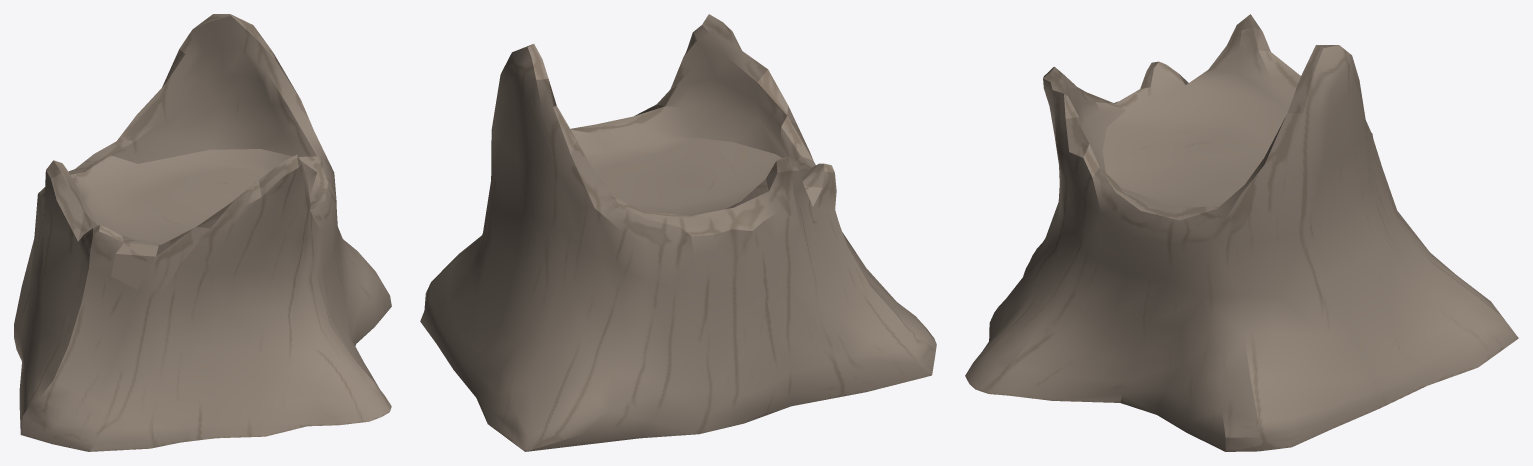
Rendered from Environment_DeadStump_Mesh_V02.fbx.
The picture shows the model from 3 angles, left to right: view 1: azimuth 30°, elevation 25°; view 2: azimuth 150°, elevation 25°; view 3: azimuth 270°, elevation 25°; orthographic projection. The views are drawn at different scales.
Parts seen in each view (by area): view 1: Environment_DeadStump_Low_Mesh_SeamsColor:Group279; view 2: Environment_DeadStump_Low_Mesh_SeamsColor:Group279; view 3: Environment_DeadStump_Low_Mesh_SeamsColor:Group279.
Boxes of the visible parts, x1=… form: Environment_DeadStump_Low_Mesh_SeamsColor:Group279: x1=14, y1=14, x2=391, y2=451; Environment_DeadStump_Low_Mesh_SeamsColor:Group279: x1=420, y1=14, x2=936, y2=451; Environment_DeadStump_Low_Mesh_SeamsColor:Group279: x1=965, y1=14, x2=1518, y2=451.
Bounding box in the file's own units: 167 × 113 × 168.
